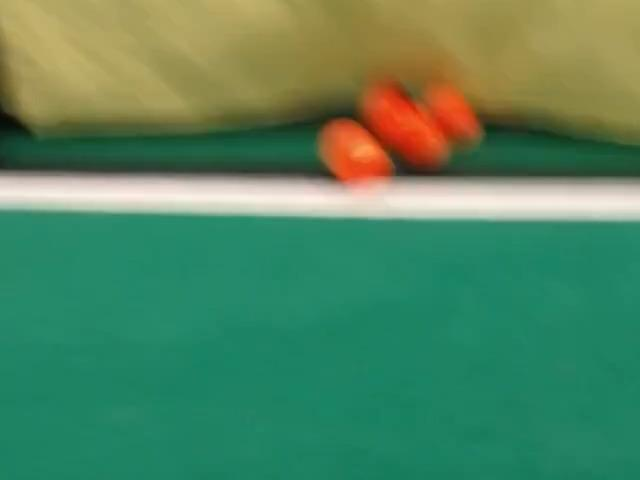Ball: (360, 83, 450, 169), (318, 118, 393, 183), (423, 84, 483, 145)
